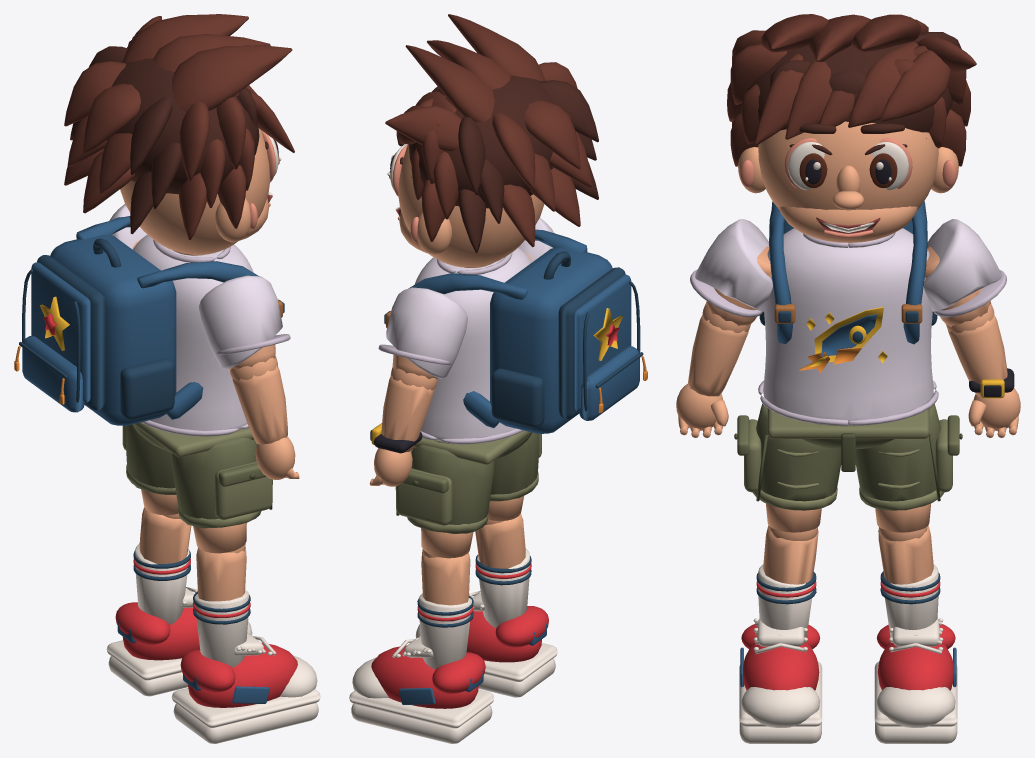
The model's file is npc.civilian-kid.glb.
3 renders of one model, left to right at view 1: azimuth 30°, elevation 25°; view 2: azimuth 150°, elevation 25°; view 3: azimuth 270°, elevation 25°, orthographic. The views are drawn at different scales.
Visible parts, largest first — view 1: head, torso, footR, legR, footL, armR, shinR, shinL, foreArmR, legL, hip, handR (+1 smaller); view 2: head, torso, footL, legL, footR, armL, shinL, shinR, foreArmL, legR, hip, handL (+1 smaller); view 3: head, torso, footL, footR, legL, legR, armL, armR, shinL, shinR, hip, foreArmL (+3 smaller).
Boxes of the visible parts, x1,y1,x2,y2 form: head: (64, 14, 294, 255); torso: (14, 216, 284, 436); footR: (171, 633, 320, 743); legR: (171, 437, 272, 553); footL: (106, 587, 252, 696); armR: (199, 275, 290, 369); shinR: (193, 543, 250, 667); shinL: (133, 507, 191, 624); foreArmR: (230, 355, 287, 444); legL: (122, 424, 178, 515); hip: (133, 422, 254, 457); handR: (255, 436, 299, 479); head: (385, 14, 598, 267); torso: (384, 229, 647, 444); footL: (349, 635, 494, 743); legL: (395, 445, 494, 558); footR: (415, 591, 557, 697); armL: (378, 287, 467, 379); shinL: (417, 549, 473, 669); shinR: (475, 514, 531, 627); foreArmL: (370, 367, 437, 453); legR: (488, 432, 541, 521); hip: (414, 430, 532, 464); handL: (369, 448, 412, 486); head: (727, 14, 976, 242); torso: (758, 201, 938, 425); footL: (874, 618, 957, 743); footR: (739, 618, 822, 743); legL: (855, 404, 962, 532); legR: (734, 404, 841, 532); armL: (923, 219, 1006, 326); armR: (690, 219, 772, 325); shinL: (878, 525, 940, 642); shinR: (756, 525, 818, 642); hip: (767, 408, 929, 471); foreArmL: (946, 304, 1014, 398).
Size of the model in its own units: 0.5572 by 1.47 by 0.6619.
